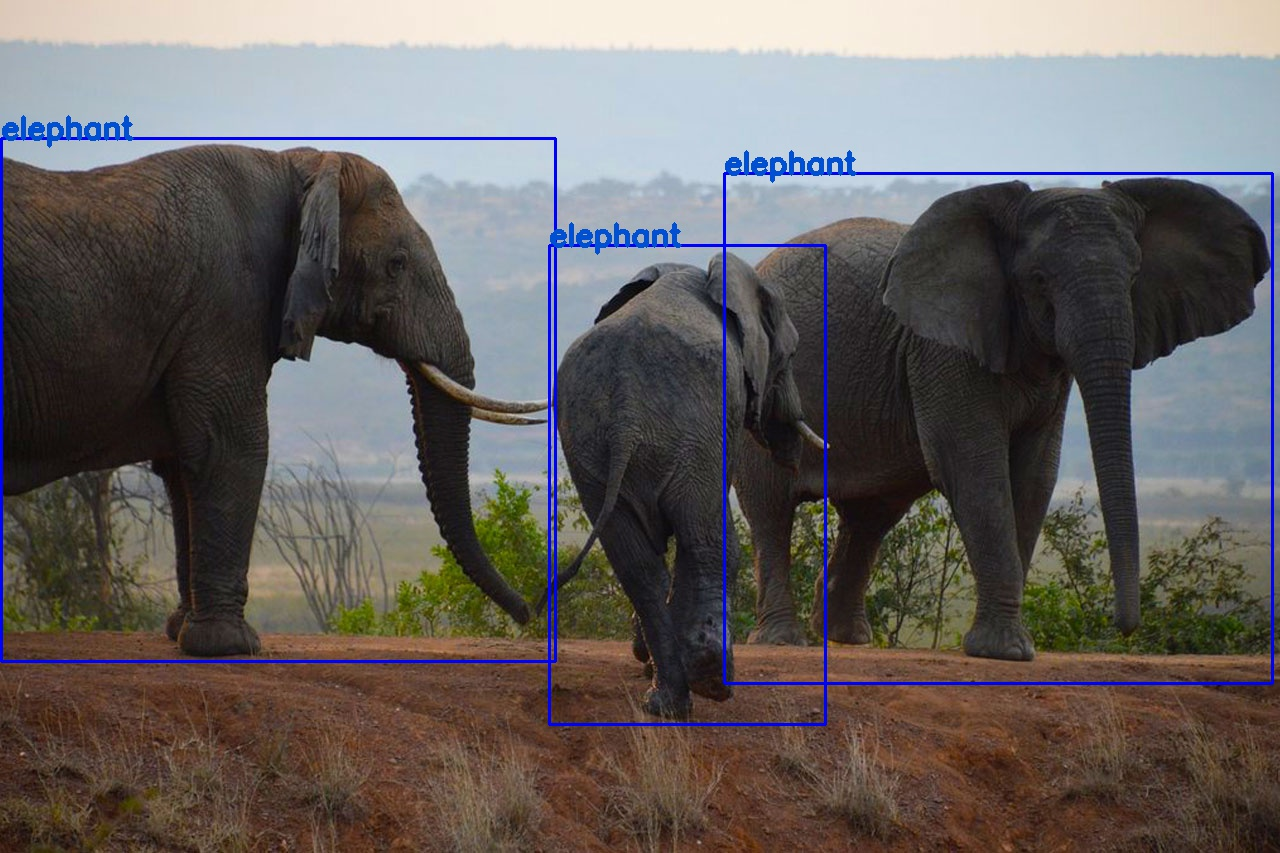elephant: (1, 138, 555, 660), (723, 172, 1271, 682), (549, 244, 825, 723)
